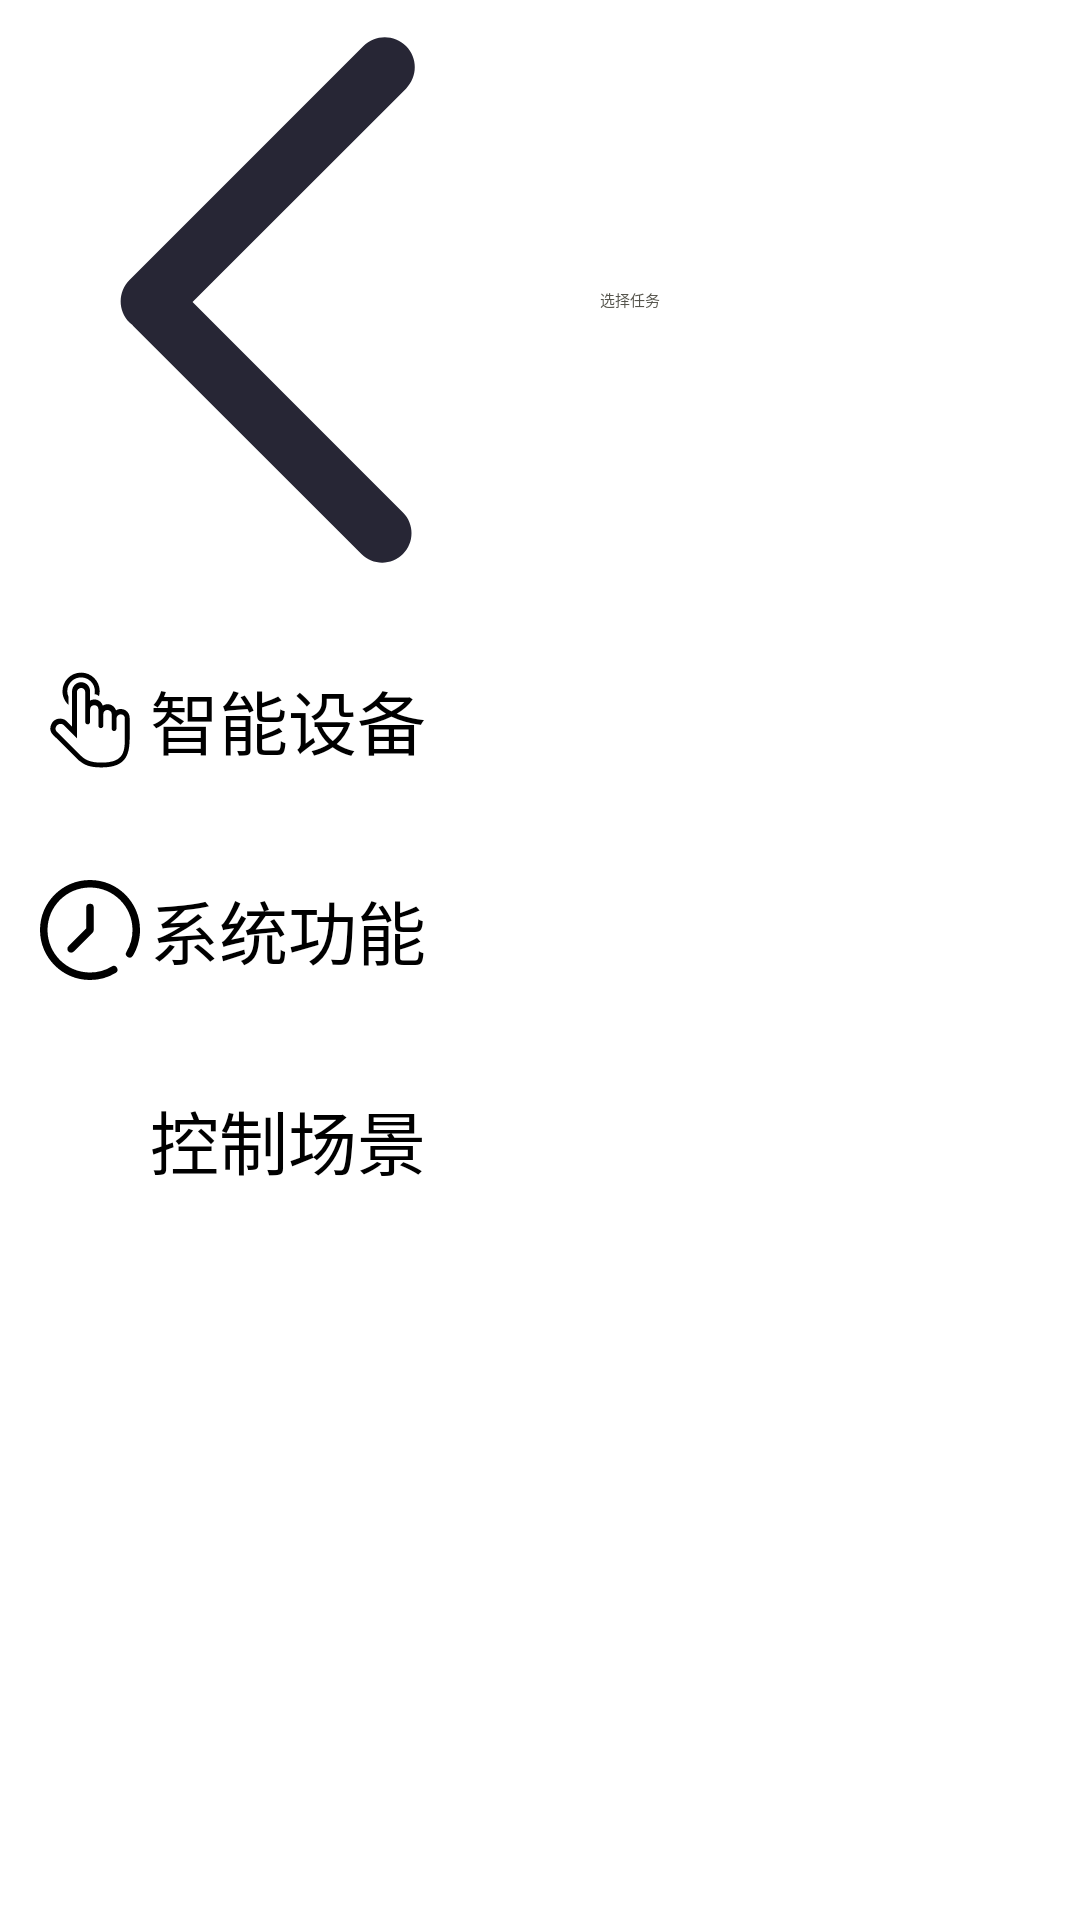

Icon click points for this 1080px x 1920px phone screenshot, format [x,y]:
hand click: [90,720]
time: [90,930]
